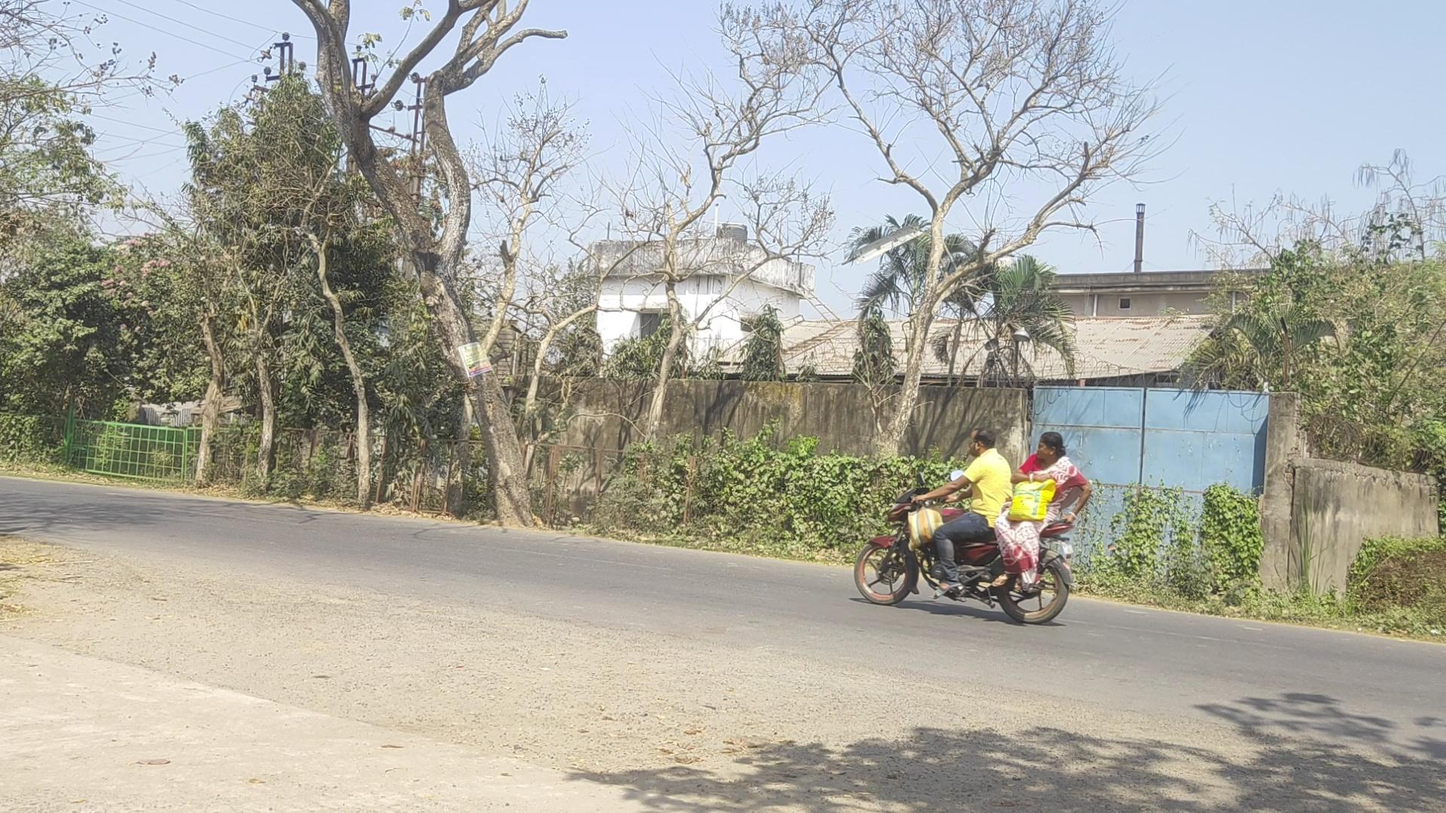bike: (854, 429, 1094, 624)
